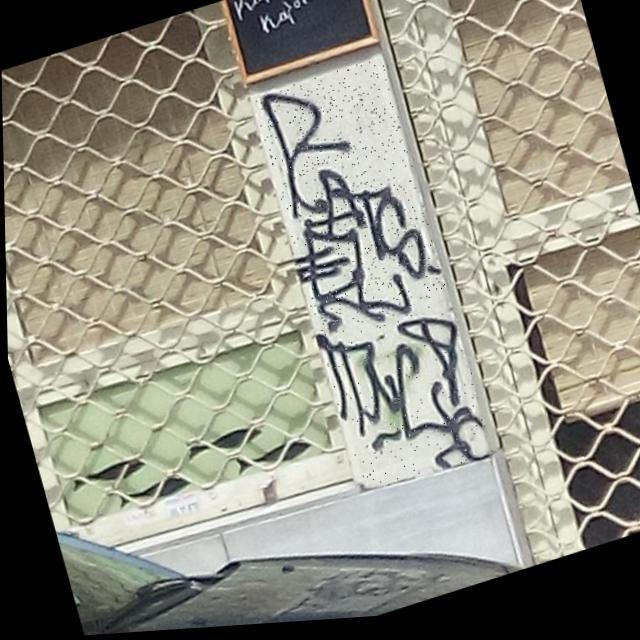-: (252, 59, 448, 348), (316, 298, 492, 505)
